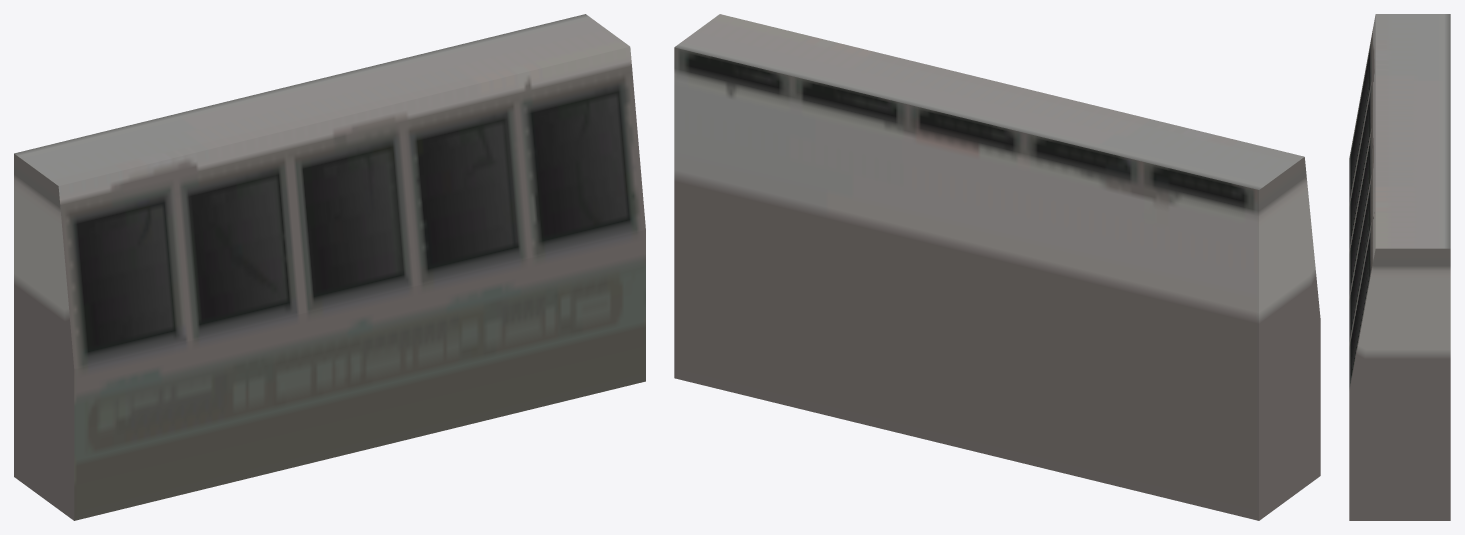
File: Building_AncientDisplayBank.glb
3 views of the same model, side by side, from view 1: azimuth 30°, elevation 25°; view 2: azimuth 150°, elevation 25°; view 3: azimuth 270°, elevation 25° (orthographic). The views are drawn at different scales.
Parts seen in each view (by area): view 1: AncientDisplayBank; view 2: AncientDisplayBank; view 3: AncientDisplayBank.
Part boxes in pixels (<box>): AncientDisplayBank: <box>14,14,645,520</box>; AncientDisplayBank: <box>674,14,1320,520</box>; AncientDisplayBank: <box>1349,14,1450,520</box>.
Bounding box in the file's own units: 2.96 × 1.6 × 0.54.
1 material, 1 textured.
